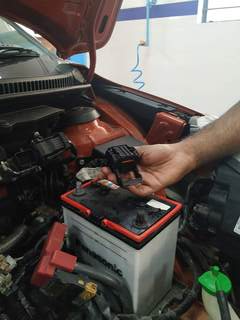connector: (105, 144, 142, 183)
